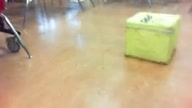cube: (124, 11, 181, 65)
